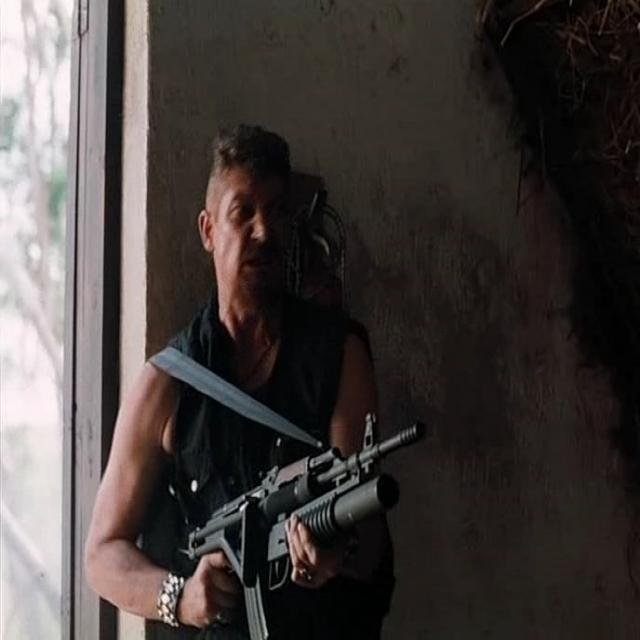gun-knife-thesis - v11 Yolov5 augmented: (159, 389, 440, 632)
